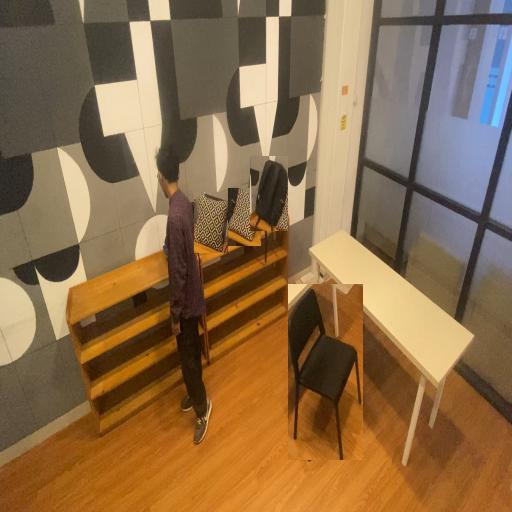bantal: (194, 192, 228, 253), (228, 188, 261, 246)
kursi: (288, 284, 363, 460)
lemari: (66, 250, 174, 434)
tas ransel: (250, 156, 288, 231)
